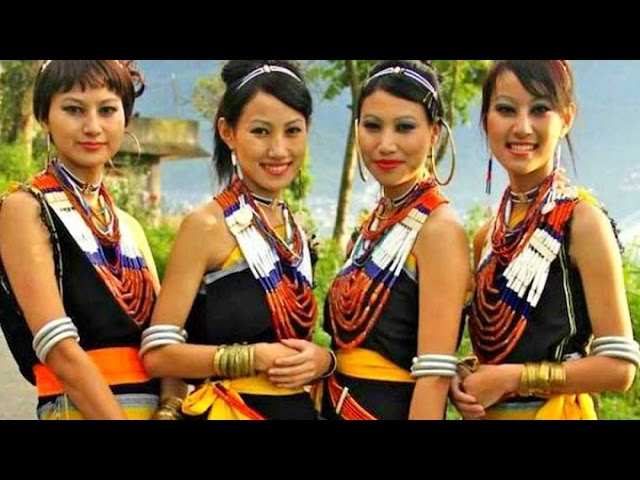women: (201, 61, 317, 205), (26, 53, 148, 175), (348, 63, 465, 188), (480, 62, 590, 193)
